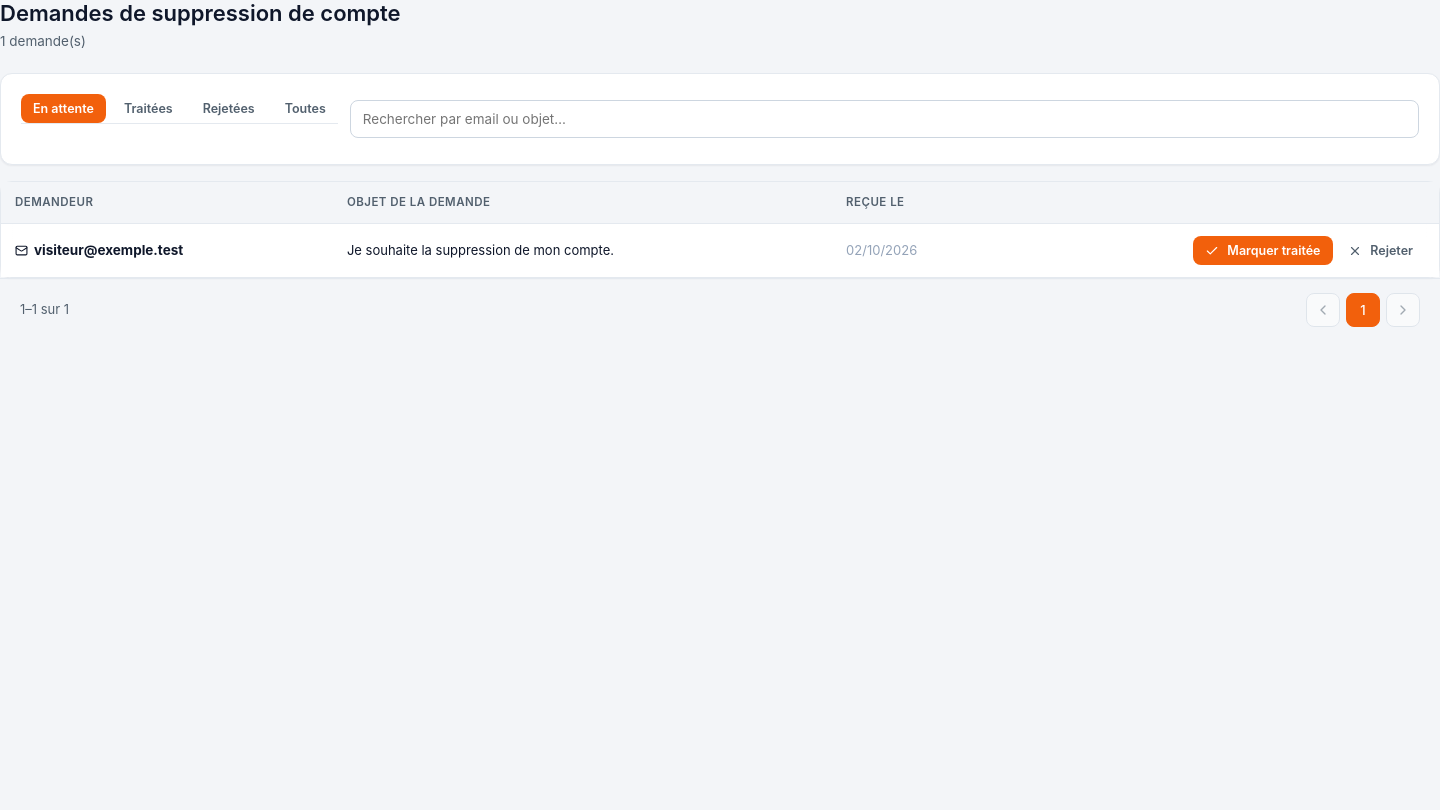
Test: PlateformeSuppressions › décision › refuse un rejet SANS motif — sans appeler le serveur
This screenshot has width=1440, height=810.
Click the button "Rejeter" at (1381, 250), box [1336,236,1425,265]
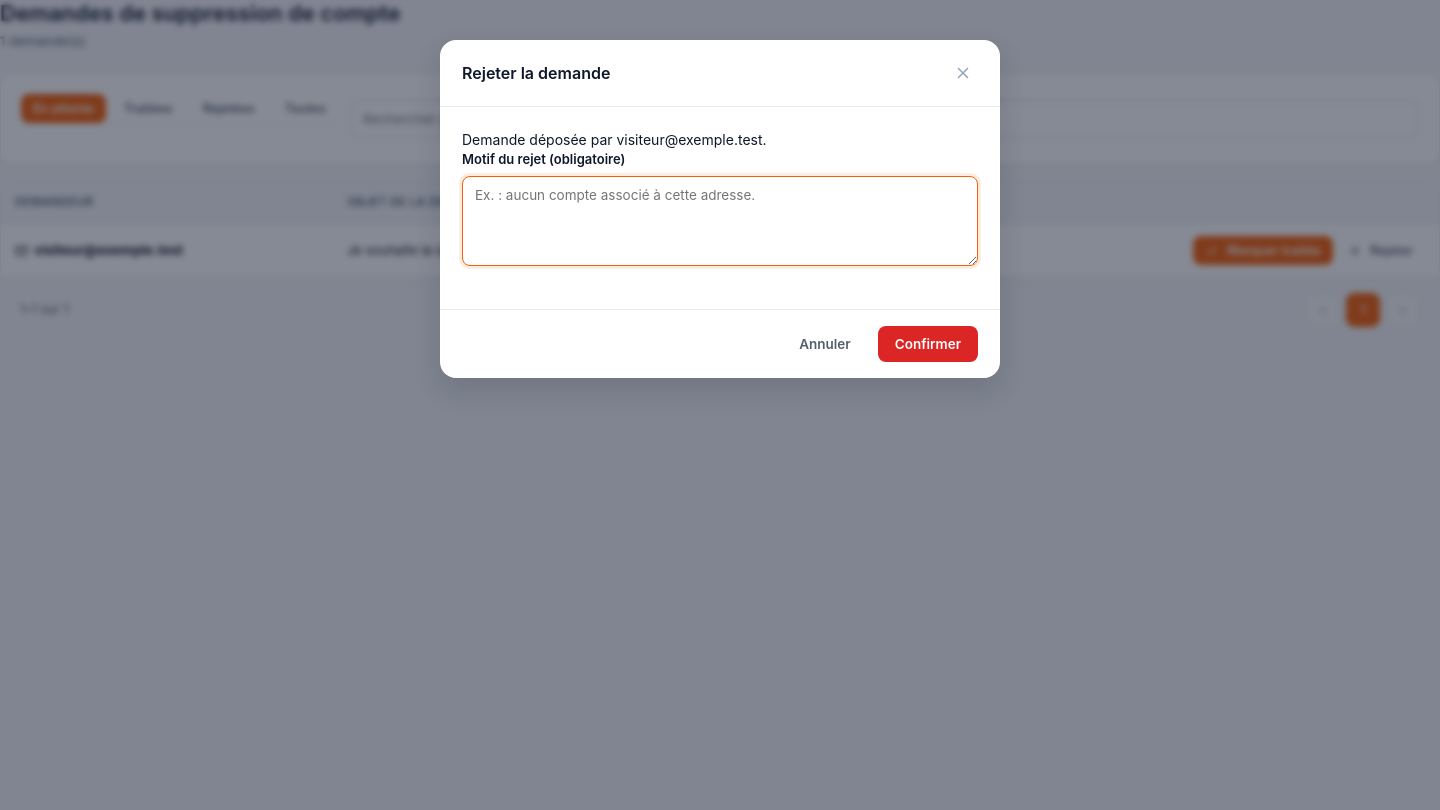
Click the button "Confirmer" at (928, 344), box [878,326,978,362]
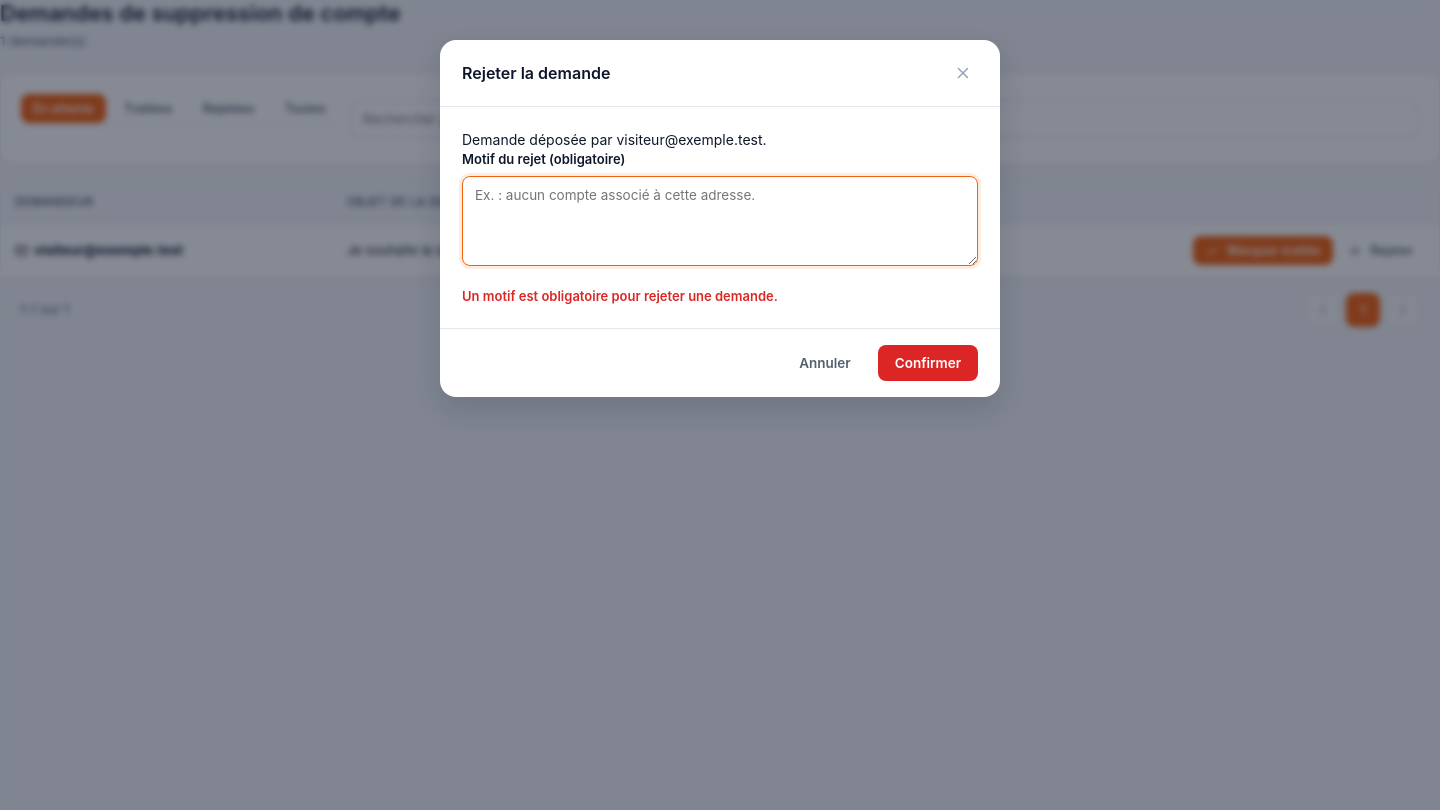
Expected: the text "Un motif est obligatoire pour rejeter une demande." is shown, [462,288,778,304]
